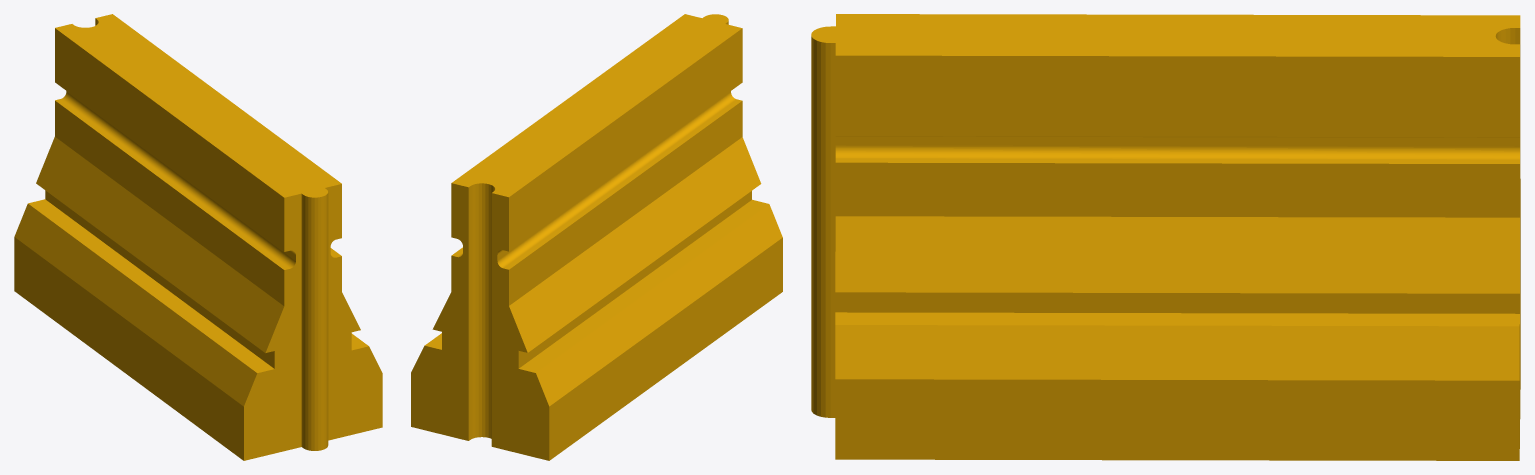
The model's file is drc_practice_orange_jersey_barrier.glb.
The picture shows the model from 3 angles, left to right: view 1: azimuth 30°, elevation 25°; view 2: azimuth 150°, elevation 25°; view 3: azimuth 270°, elevation 25°; orthographic projection. The views are drawn at different scales.
Visible parts, largest first — view 1: node_001; view 2: node_001; view 3: node_001.
Part boxes in pixels (box(x1,y1,x2,y2)): node_001: box(14, 14, 382, 460); node_001: box(411, 14, 782, 460); node_001: box(811, 14, 1520, 460).
Size of the model in its own units: 0.6082 by 1.05 by 1.8.
